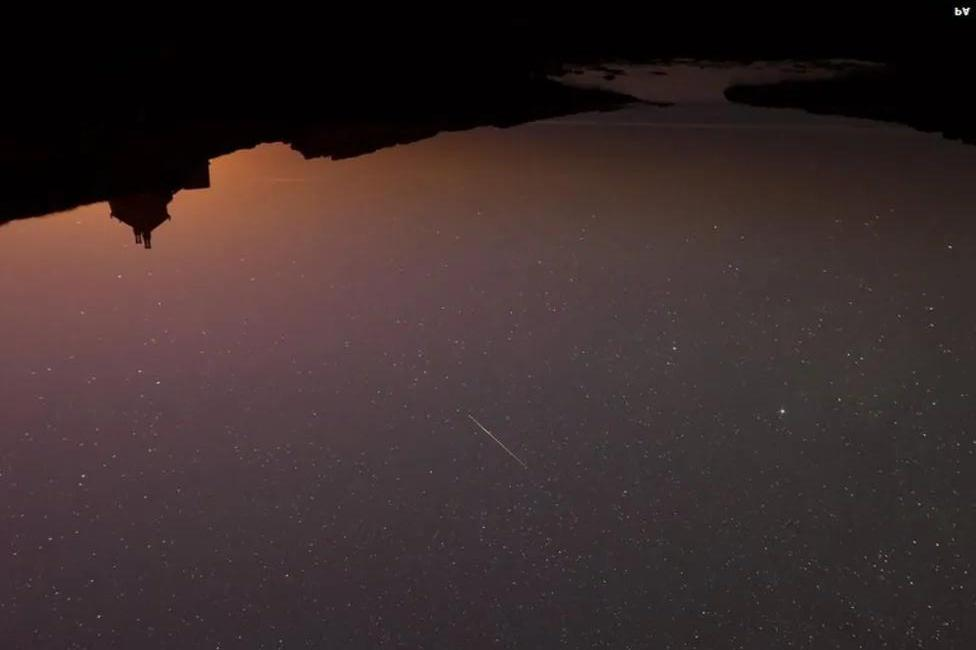meteorite: (458, 407, 539, 472)
